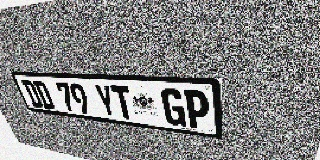7: (54, 82, 78, 113)
9: (68, 83, 92, 114)
D: (32, 81, 56, 110), (21, 80, 44, 108)
G: (160, 88, 186, 127)
P: (184, 89, 209, 130)
T: (110, 85, 136, 120)
Y: (93, 84, 118, 118)
